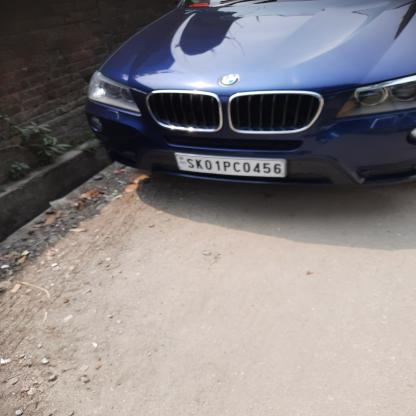Number_Plate_Detected: (174, 152, 290, 178)
